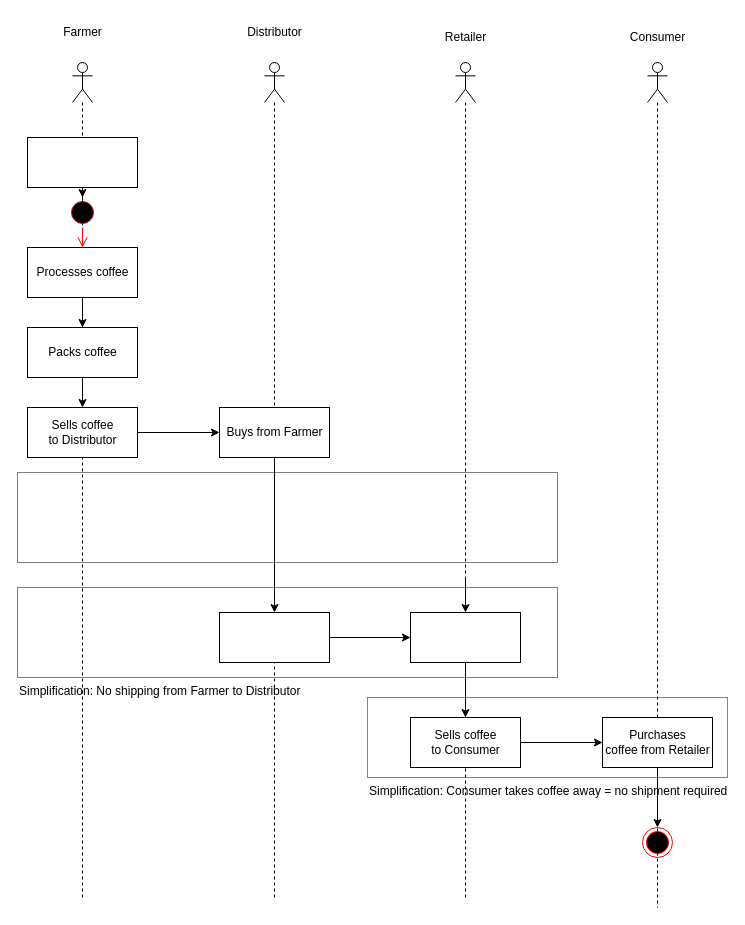
This 745x925 diagram has some shape labels left out. The box of each missing label's shape, as (x1, y1, x2, y2) in pixels:
Harvests: (26, 136, 138, 188)
Ships to Retailer: (218, 612, 330, 662)
Simplification: No buy / sell between Distributor and Retailer: (16, 472, 558, 562)
Waits/ Receives coffee: (410, 612, 520, 662)
